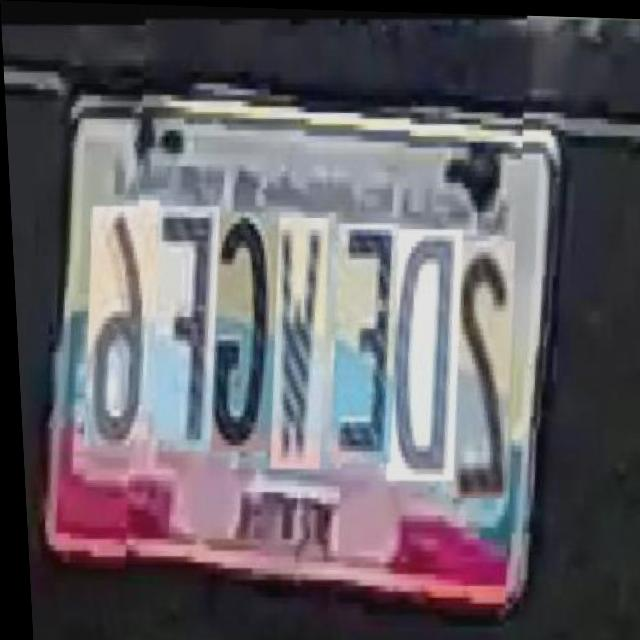2: (442, 235, 527, 497)
6: (77, 194, 172, 438)
d: (379, 223, 475, 478)
e: (324, 217, 410, 460)
f: (143, 200, 232, 450)
g: (197, 206, 291, 450)
w: (263, 211, 340, 466)
